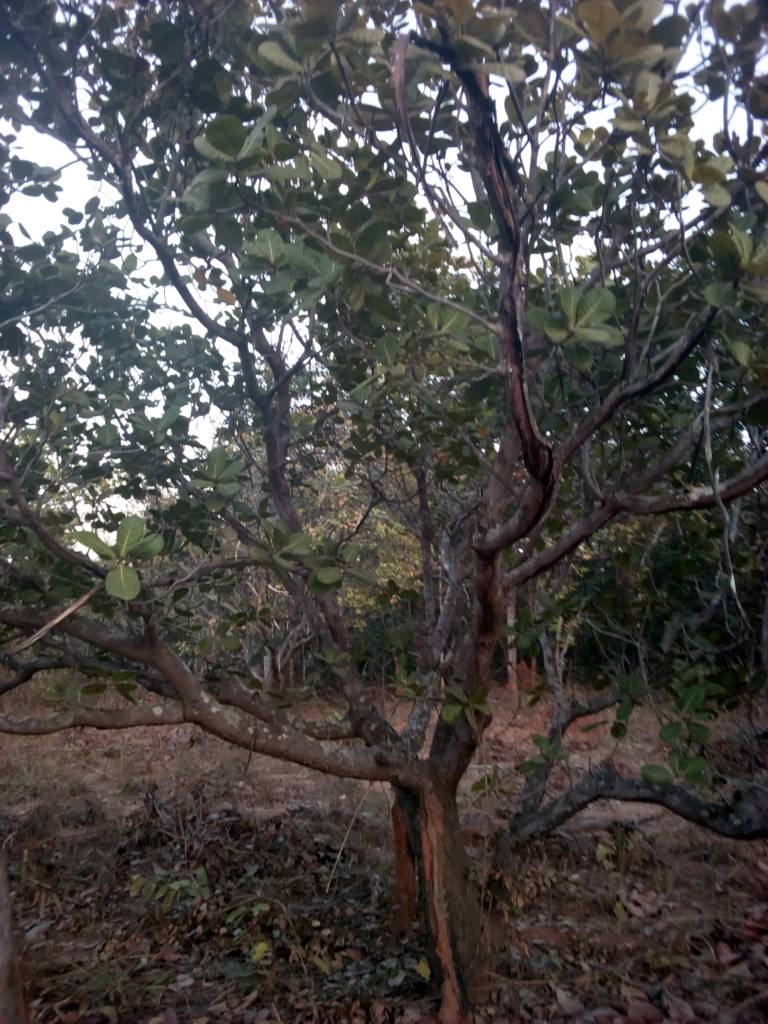Termites: (419, 777, 474, 1016)
